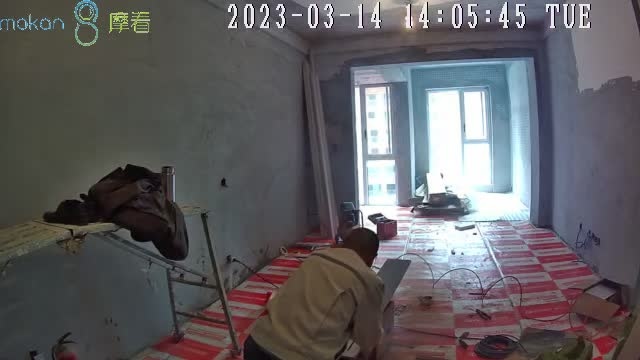people: (243, 227, 386, 360)
window: (427, 89, 492, 191), (362, 88, 400, 204)
